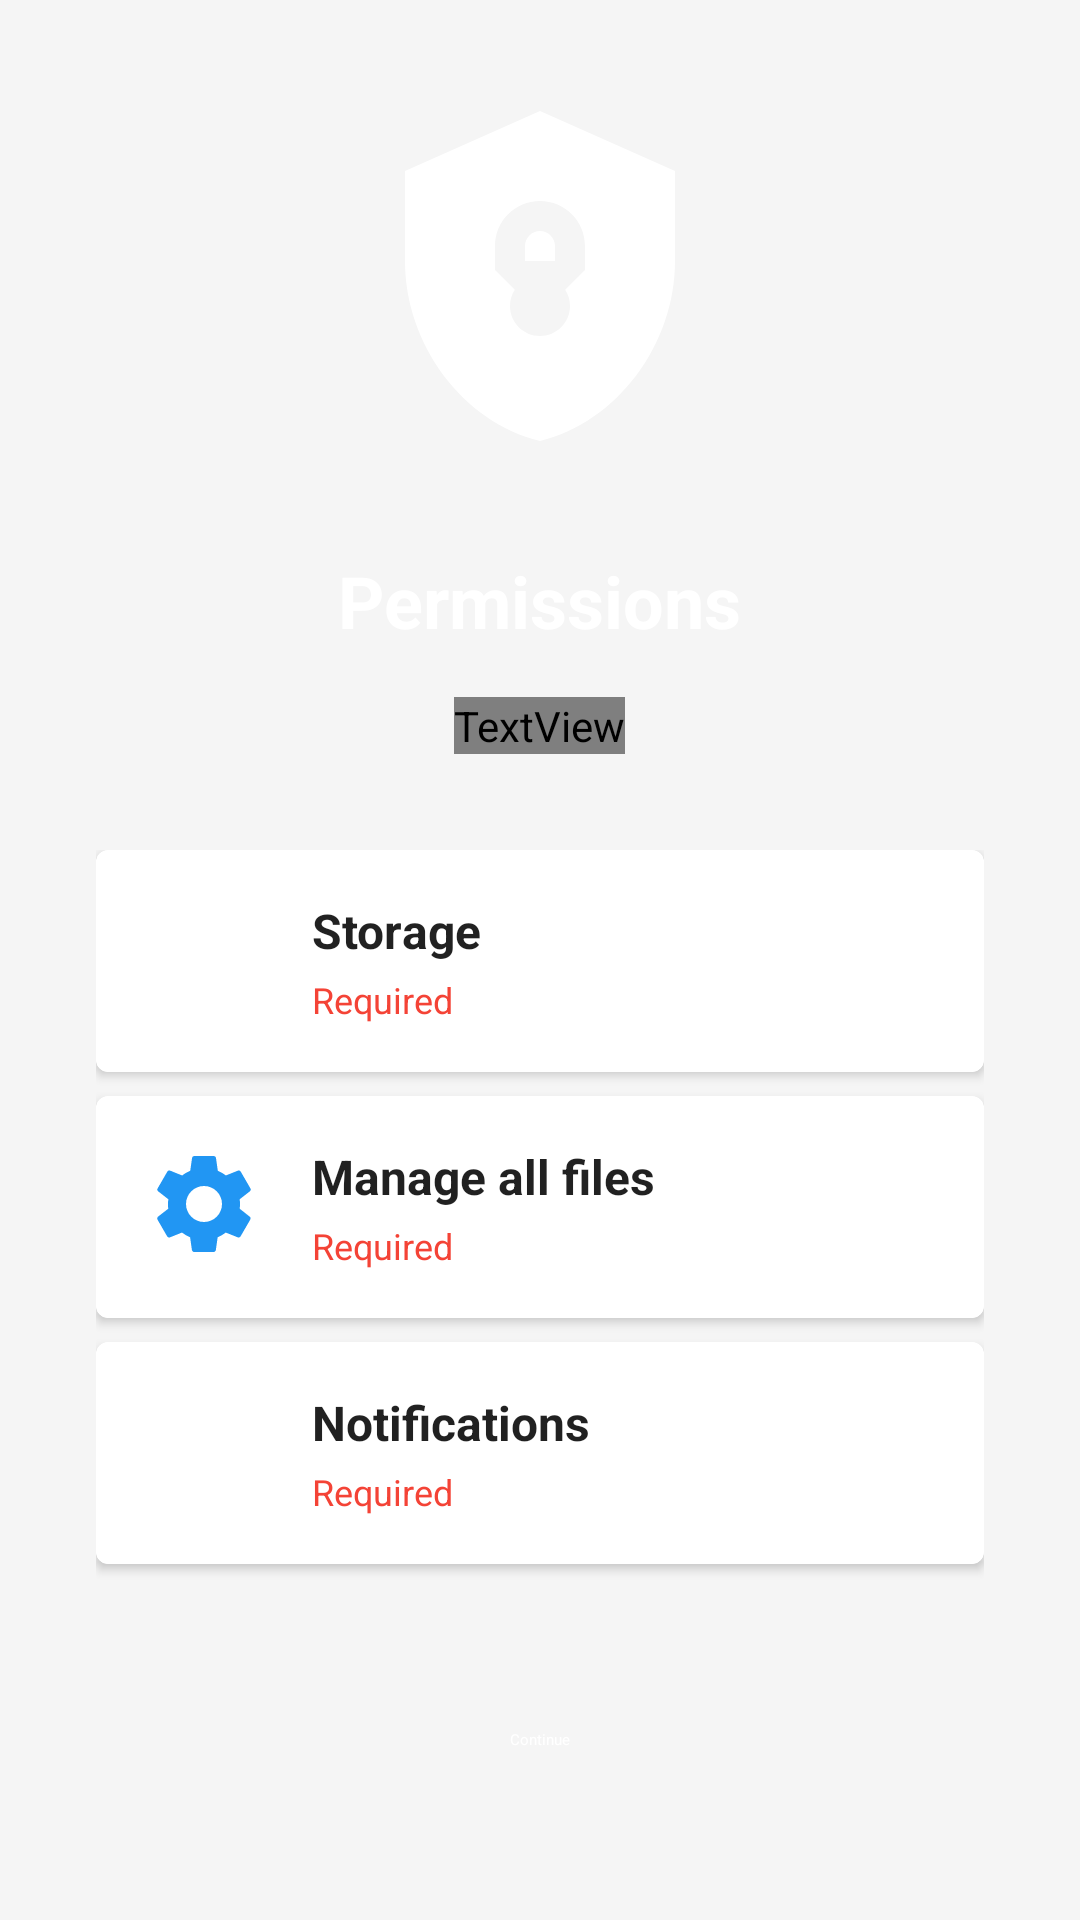

Locate icon controls on the screen. Image size 1080px×1920px, boxes as (x1, y1, x2, y2).
settings: (157, 1156, 251, 1252)
